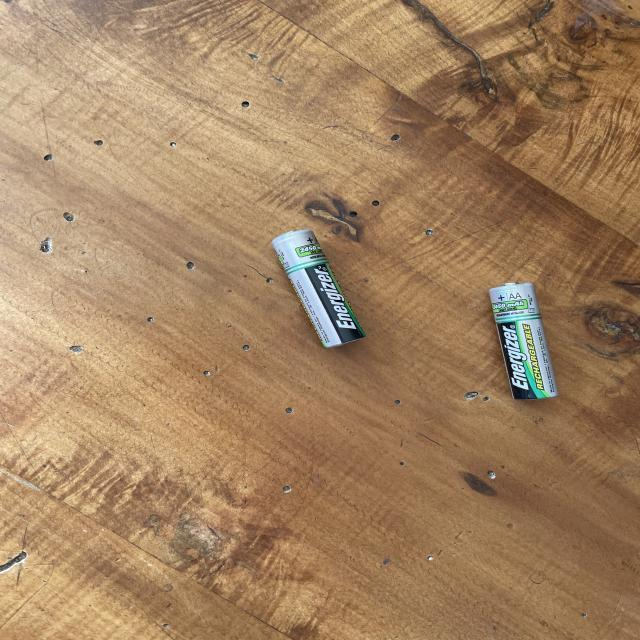Hazard: (266, 227, 372, 351), (487, 279, 563, 402)
